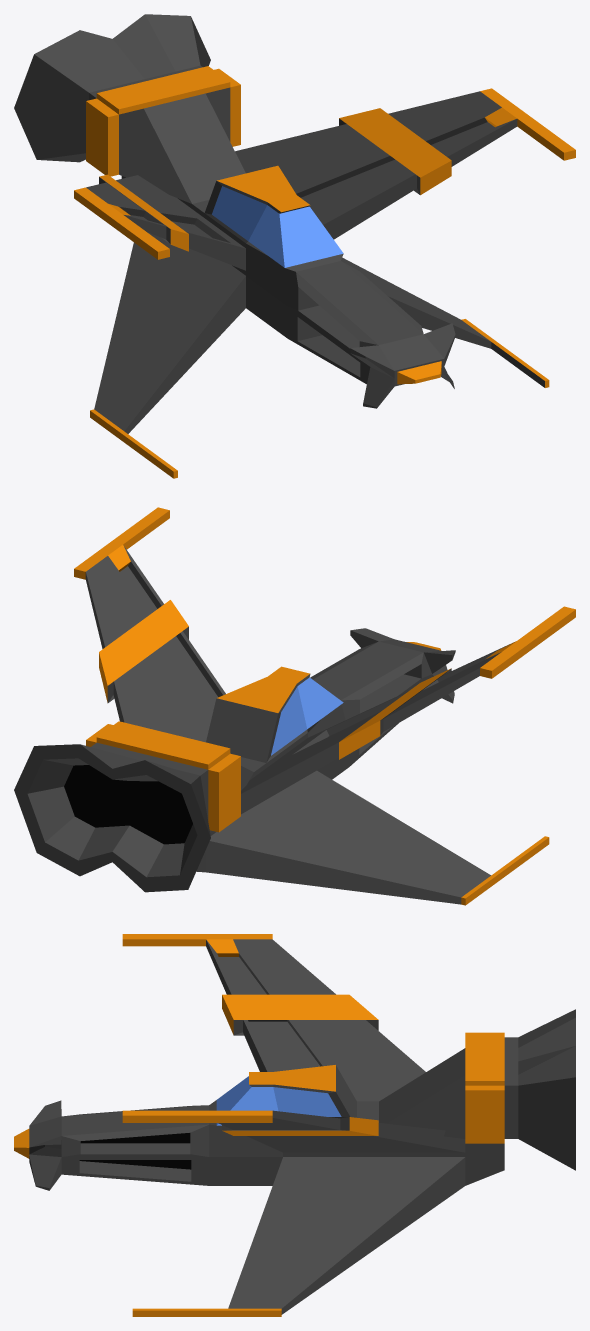
The model's file is LuminousGhost.fbx.
3 renders of one model, top to bottom at view 1: azimuth 30°, elevation 25°; view 2: azimuth 150°, elevation 25°; view 3: azimuth 270°, elevation 25°, orthographic. The views are drawn at different scales.
Parts seen in each view (by area): view 1: LuminousGhost; view 2: LuminousGhost; view 3: LuminousGhost.
Part boxes in pixels (x1,y1,x2,y2): LuminousGhost: (14, 14, 575, 478); LuminousGhost: (14, 507, 575, 905); LuminousGhost: (14, 934, 575, 1316).
Size of the model in its own units: 15.44 by 8.33 by 20.18.
